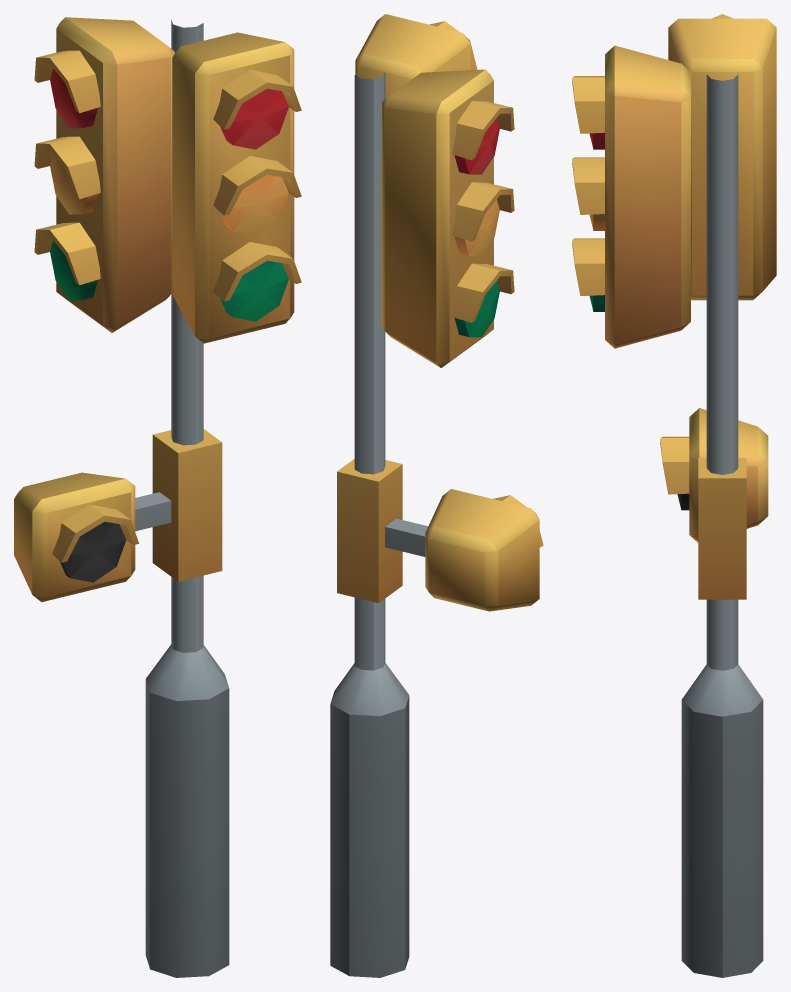
The model's file is kkcity.trafficlight_a.glb.
The picture shows the model from 3 angles, left to right: view 1: azimuth 30°, elevation 25°; view 2: azimuth 150°, elevation 25°; view 3: azimuth 270°, elevation 25°; orthographic projection. The views are drawn at different scales.
Parts seen in each view (by area): view 1: trafficlight_A; view 2: trafficlight_A; view 3: trafficlight_A.
Part boxes in pixels (x1,y1,x2,y2): trafficlight_A: (14,17,301,977); trafficlight_A: (330,14,543,977); trafficlight_A: (572,14,776,977).
Size of the model in its own units: 0.8369 by 3.5 by 0.7224.
1 material, 1 textured.
